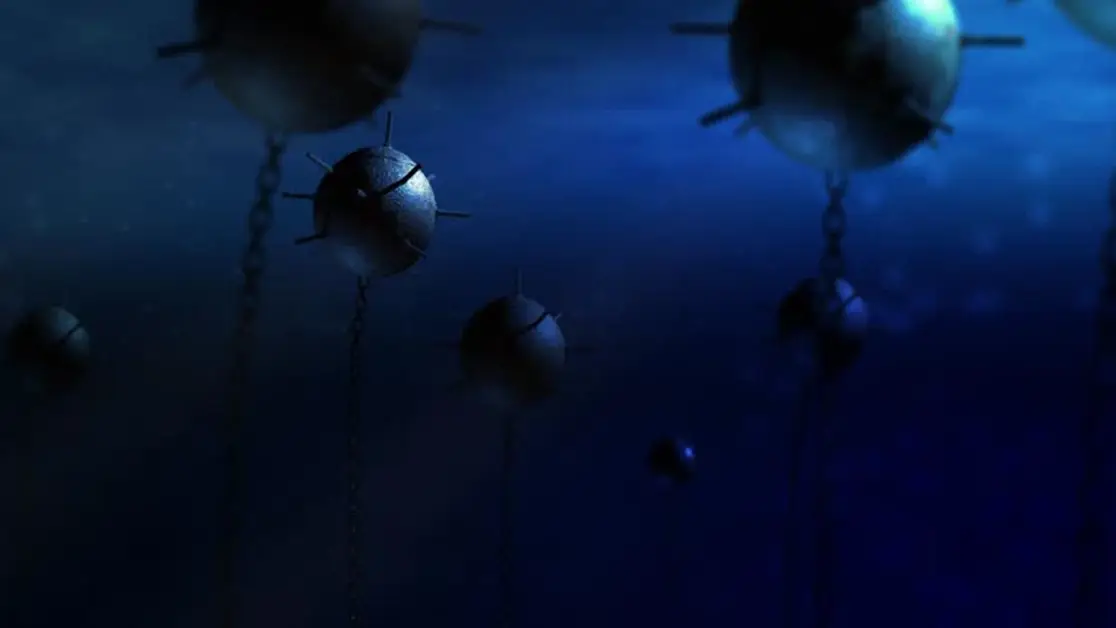Mines: (667, 0, 1028, 177), (153, 1, 476, 146), (278, 110, 475, 292), (441, 271, 592, 419), (762, 267, 879, 398), (2, 302, 101, 418), (644, 422, 709, 490)
